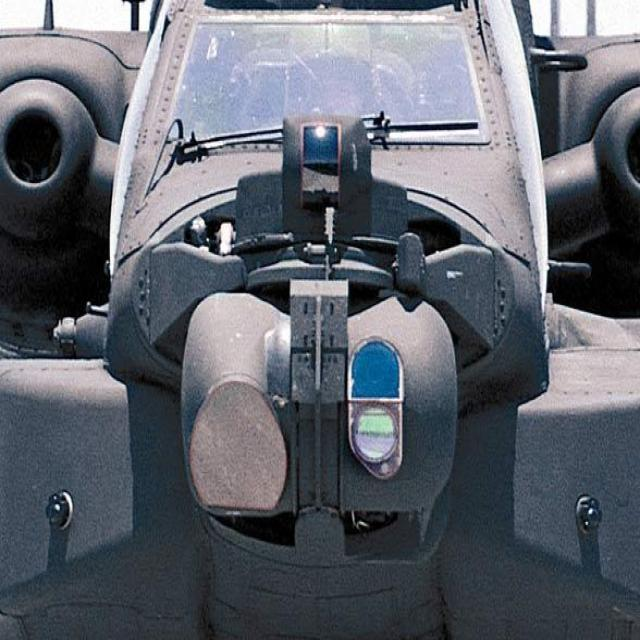MIL_HELO: (6, 0, 634, 606)
